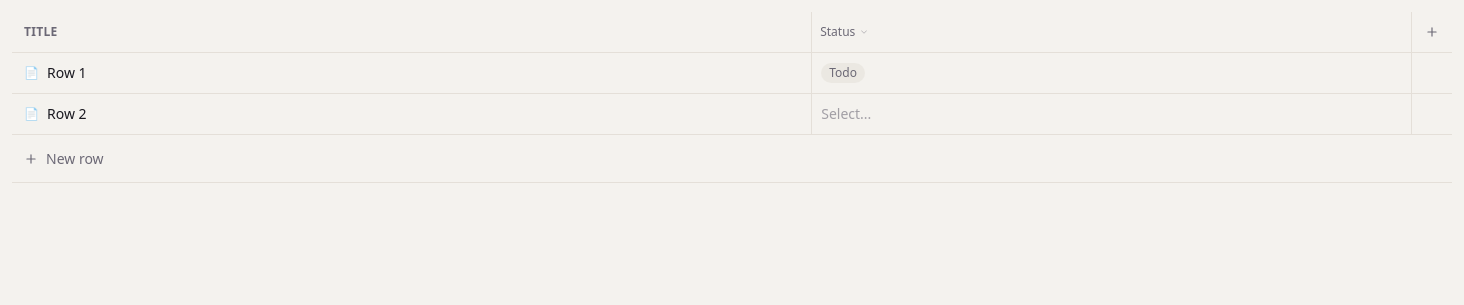
Test case: DatabaseView — add property › Add button is enabled once a name is typed (DEF-046)
This screenshot has width=1464, height=305.
Click the button with test id "add-property-btn".
click(1432, 32)  # box [1412,12,1452,52]
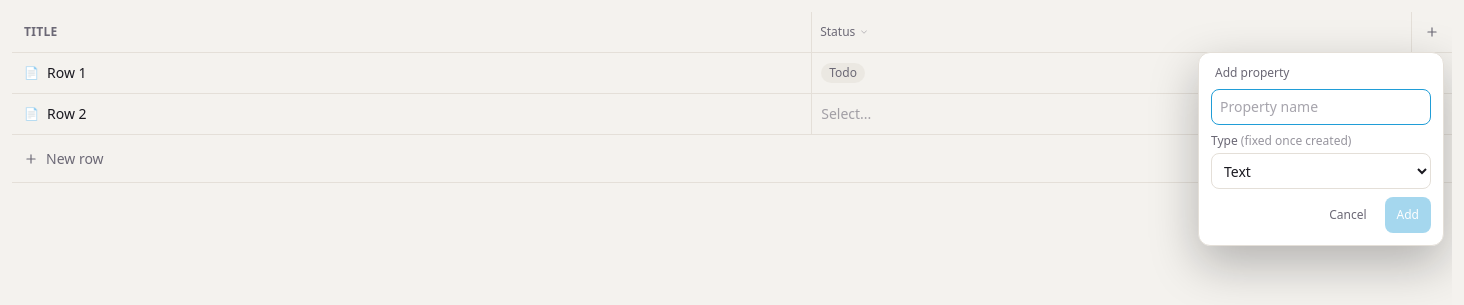
Type "Priority" into the field with placeholder "Property name".
click(1321, 107); type("Priority")  # box [1211,89,1431,125]
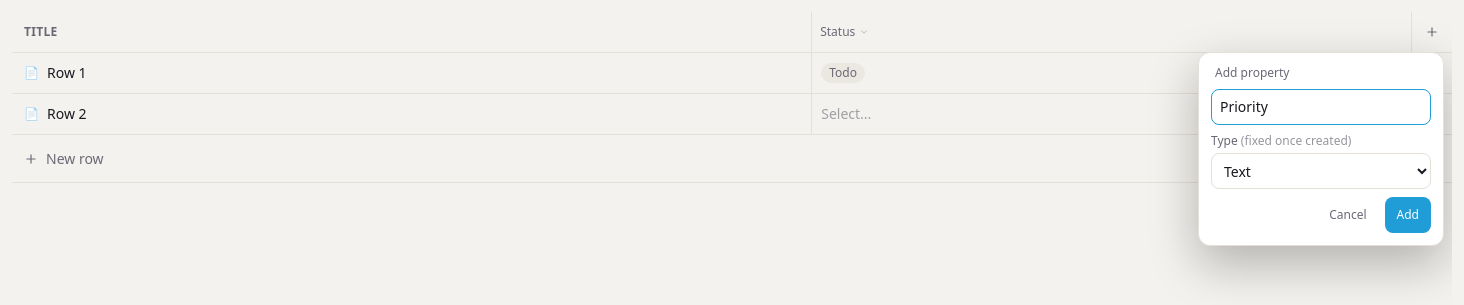
Now the button "Add" is enabled, box [1385,197,1431,233]
